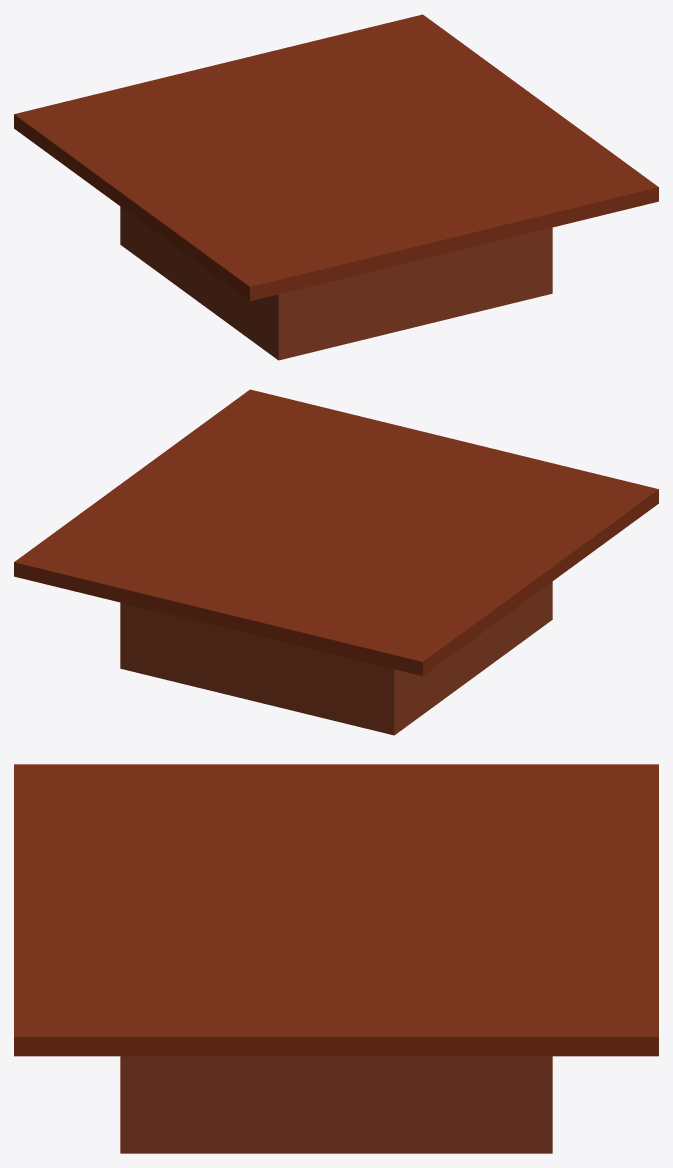
Rendered from desk108262015.fbx.
3 renders of one model, top to bottom at view 1: azimuth 30°, elevation 25°; view 2: azimuth 150°, elevation 25°; view 3: azimuth 270°, elevation 25°, orthographic. The views are drawn at different scales.
Visible parts, largest first — view 1: 立方体, Cube; view 2: 立方体, Cube; view 3: 立方体, Cube.
Boxes of the visible parts, x1,y1,x2,y2 form: 立方体: (14,14,658,301); Cube: (120,206,552,360); 立方体: (14,389,658,676); Cube: (120,581,552,735); 立方体: (14,764,658,1056); Cube: (120,1056,552,1153).
Size of the model in its own units: 3.56 by 0.9864 by 3.56.
